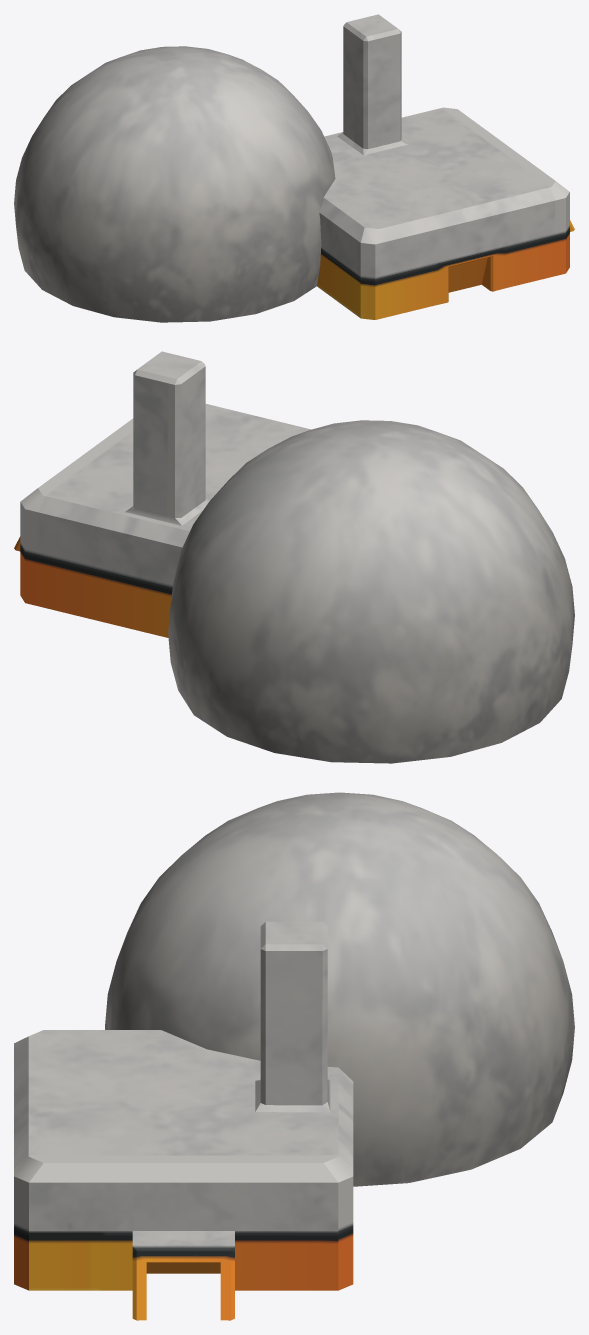
Rendered from Power_Station.fbx.
3 views of the same model, one above another, from view 1: azimuth 30°, elevation 25°; view 2: azimuth 150°, elevation 25°; view 3: azimuth 270°, elevation 25° (orthographic). The views are drawn at different scales.
Visible parts, largest first — view 1: Power_Station; view 2: Power_Station; view 3: Power_Station.
Boxes of the visible parts, bbox=[...] form: Power_Station: bbox=[14, 14, 574, 322]; Power_Station: bbox=[14, 351, 574, 763]; Power_Station: bbox=[14, 792, 574, 1320].
Bounding box in the file's own units: 95.24 × 38.8 × 69.16.
1 material, 1 textured.
